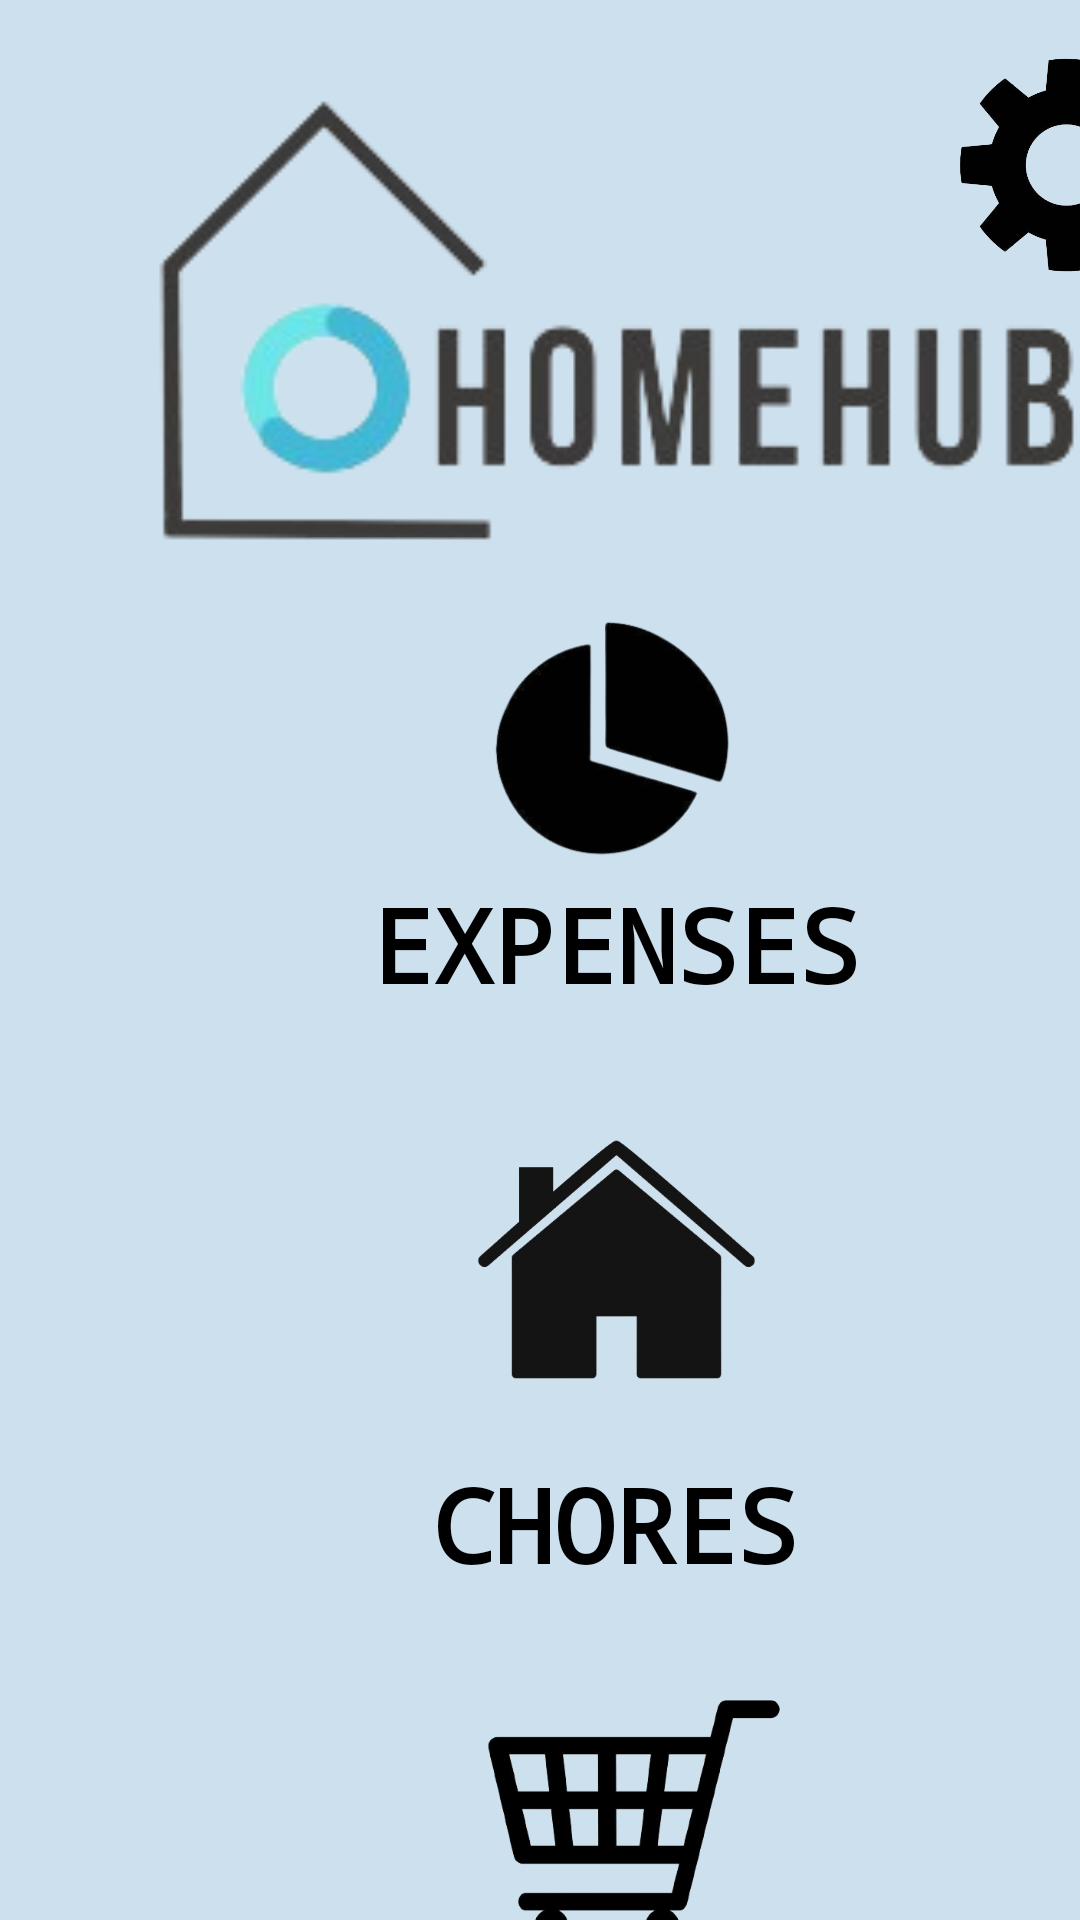

Icon bounding boxes for this 1080px×1920px phone screenshot, format BBox(x1, y1, x2, y2):
chart: BBox(496, 622, 729, 855)
house: BBox(478, 1140, 755, 1379)
